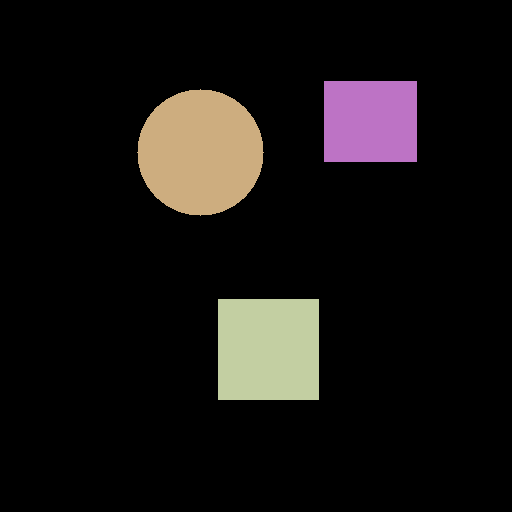circle: (137, 89, 263, 215)
rectangle: (324, 81, 416, 161)
square: (218, 299, 318, 399)
